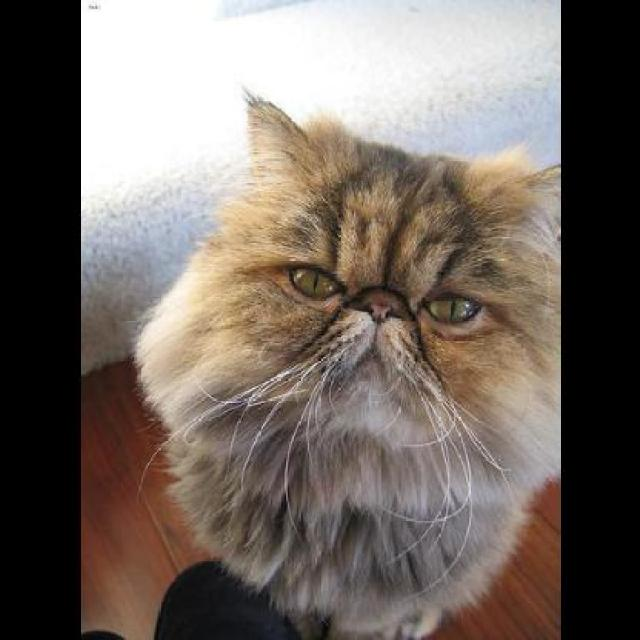unauthorized: (129, 86, 560, 639)
